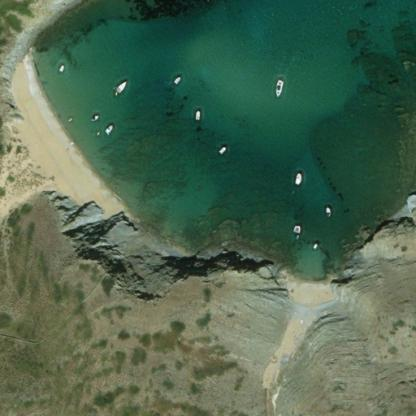ship: (287, 164, 306, 190), (271, 73, 289, 99), (110, 73, 128, 98), (288, 219, 304, 244), (102, 119, 116, 136), (214, 140, 228, 157), (307, 236, 321, 252), (322, 202, 334, 220), (169, 71, 183, 86), (87, 110, 101, 124), (54, 60, 66, 76), (191, 106, 203, 122), (64, 111, 74, 125)
